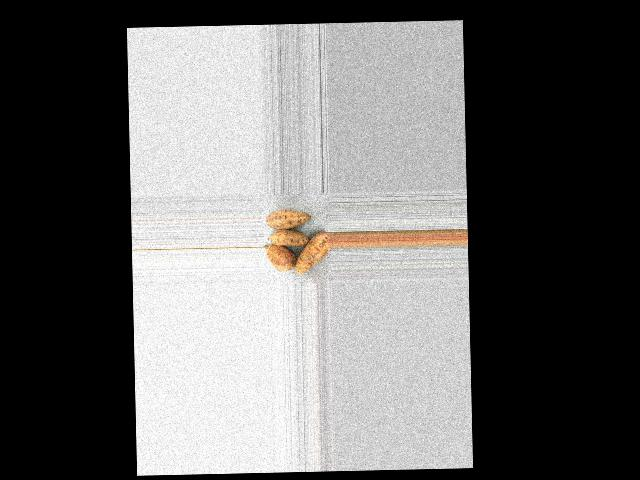sweet_potato: (294, 227, 332, 278)
